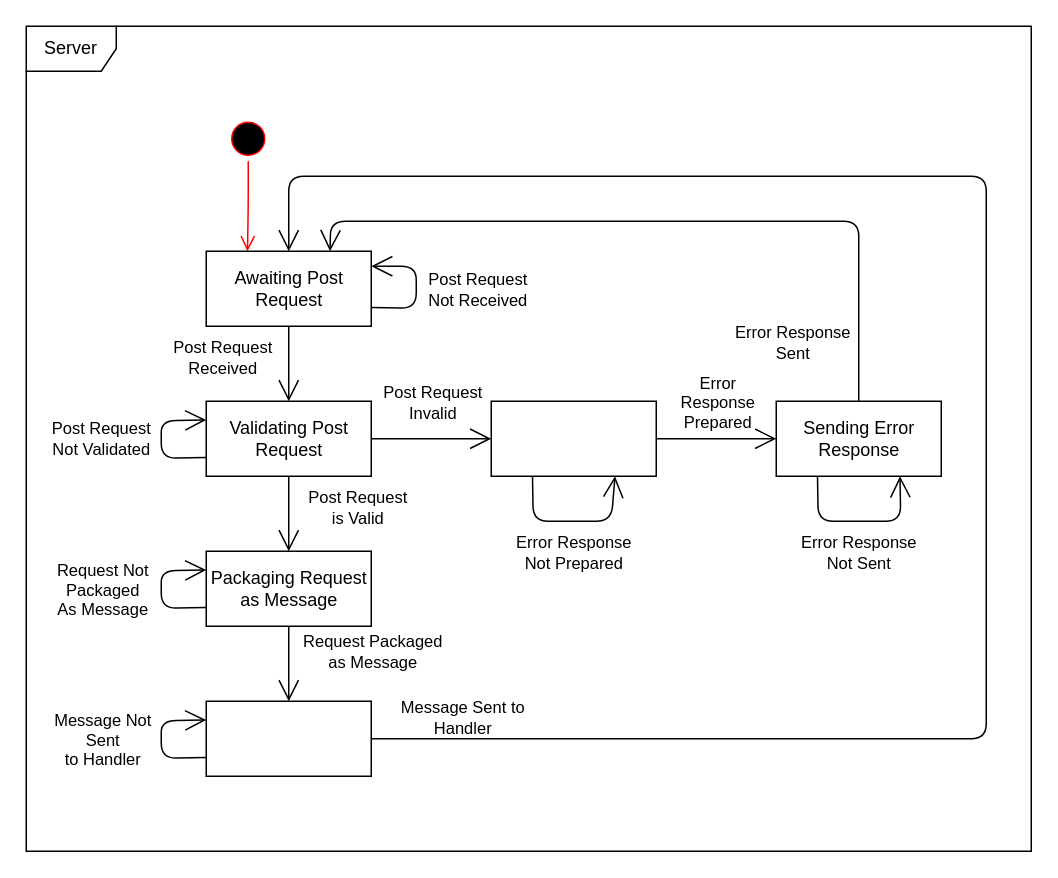
This 1058x878 diagram has some shape labels left out. Each missing label, with the box of its shape:
Preparing Error Response: (490, 400, 656, 476)
Sending Message to WebSocket Handler: (205, 700, 371, 776)
